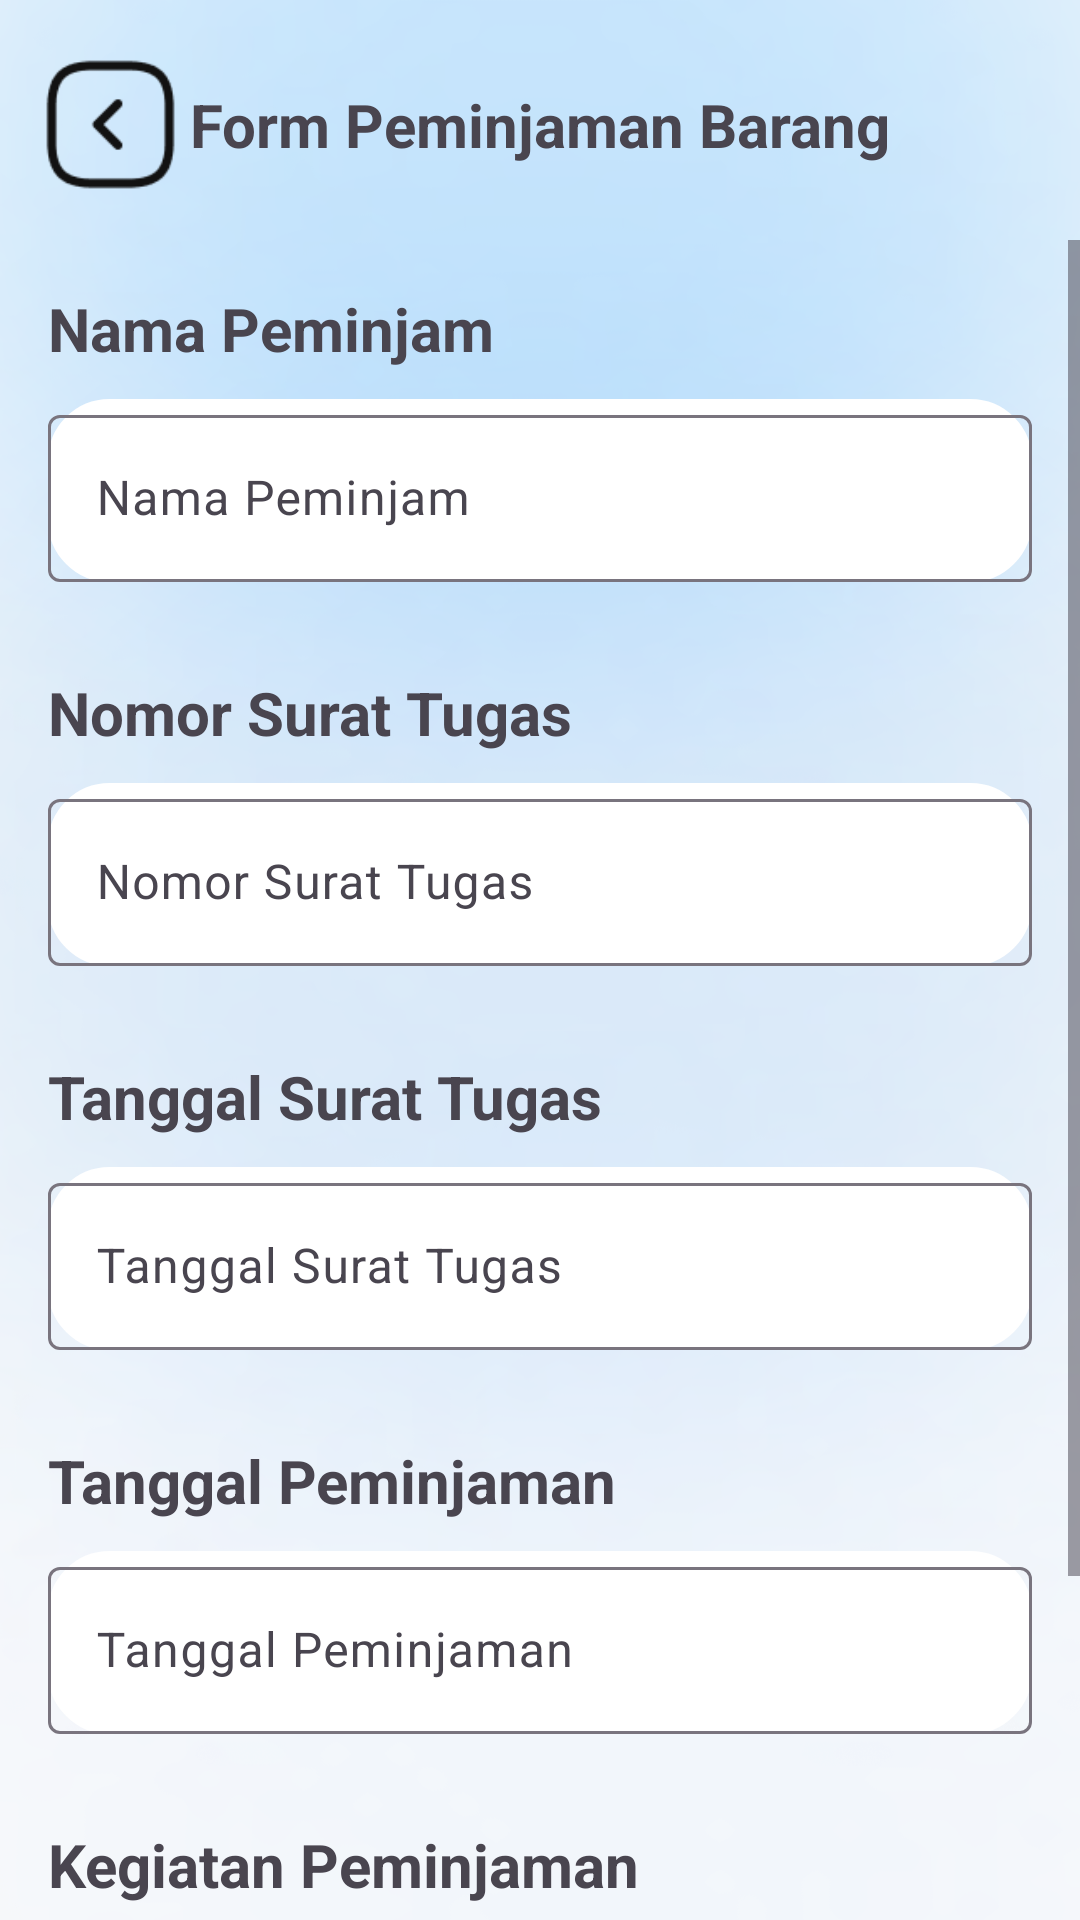

Where icons sit on this 1080px×1920px app screen, as Rect(x1, y1, x2, y2):
arrow quare left: Rect(46, 60, 175, 189)
